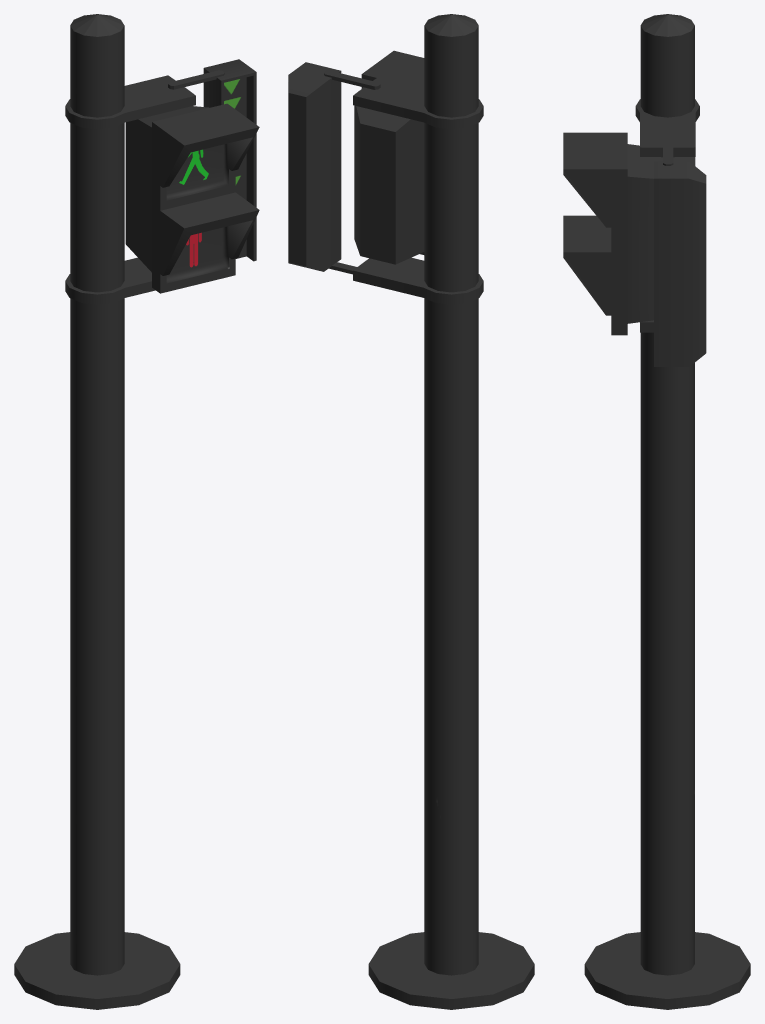
The model's file is traffice.fbx.
3 views of the same model, side by side, from view 1: azimuth 30°, elevation 25°; view 2: azimuth 150°, elevation 25°; view 3: azimuth 270°, elevation 25° (orthographic).
Parts seen in each view (by area): view 1: Cylinder001; view 2: Cylinder001; view 3: Cylinder001.
Boxes of the visible parts, bbox=[...] form: Cylinder001: bbox=[14, 14, 259, 1009]; Cylinder001: bbox=[288, 14, 534, 1009]; Cylinder001: bbox=[563, 14, 750, 1009].
Size of the model in its own units: 39.43 by 161 by 28.53.
Materials: 1 (1 with a texture image).
